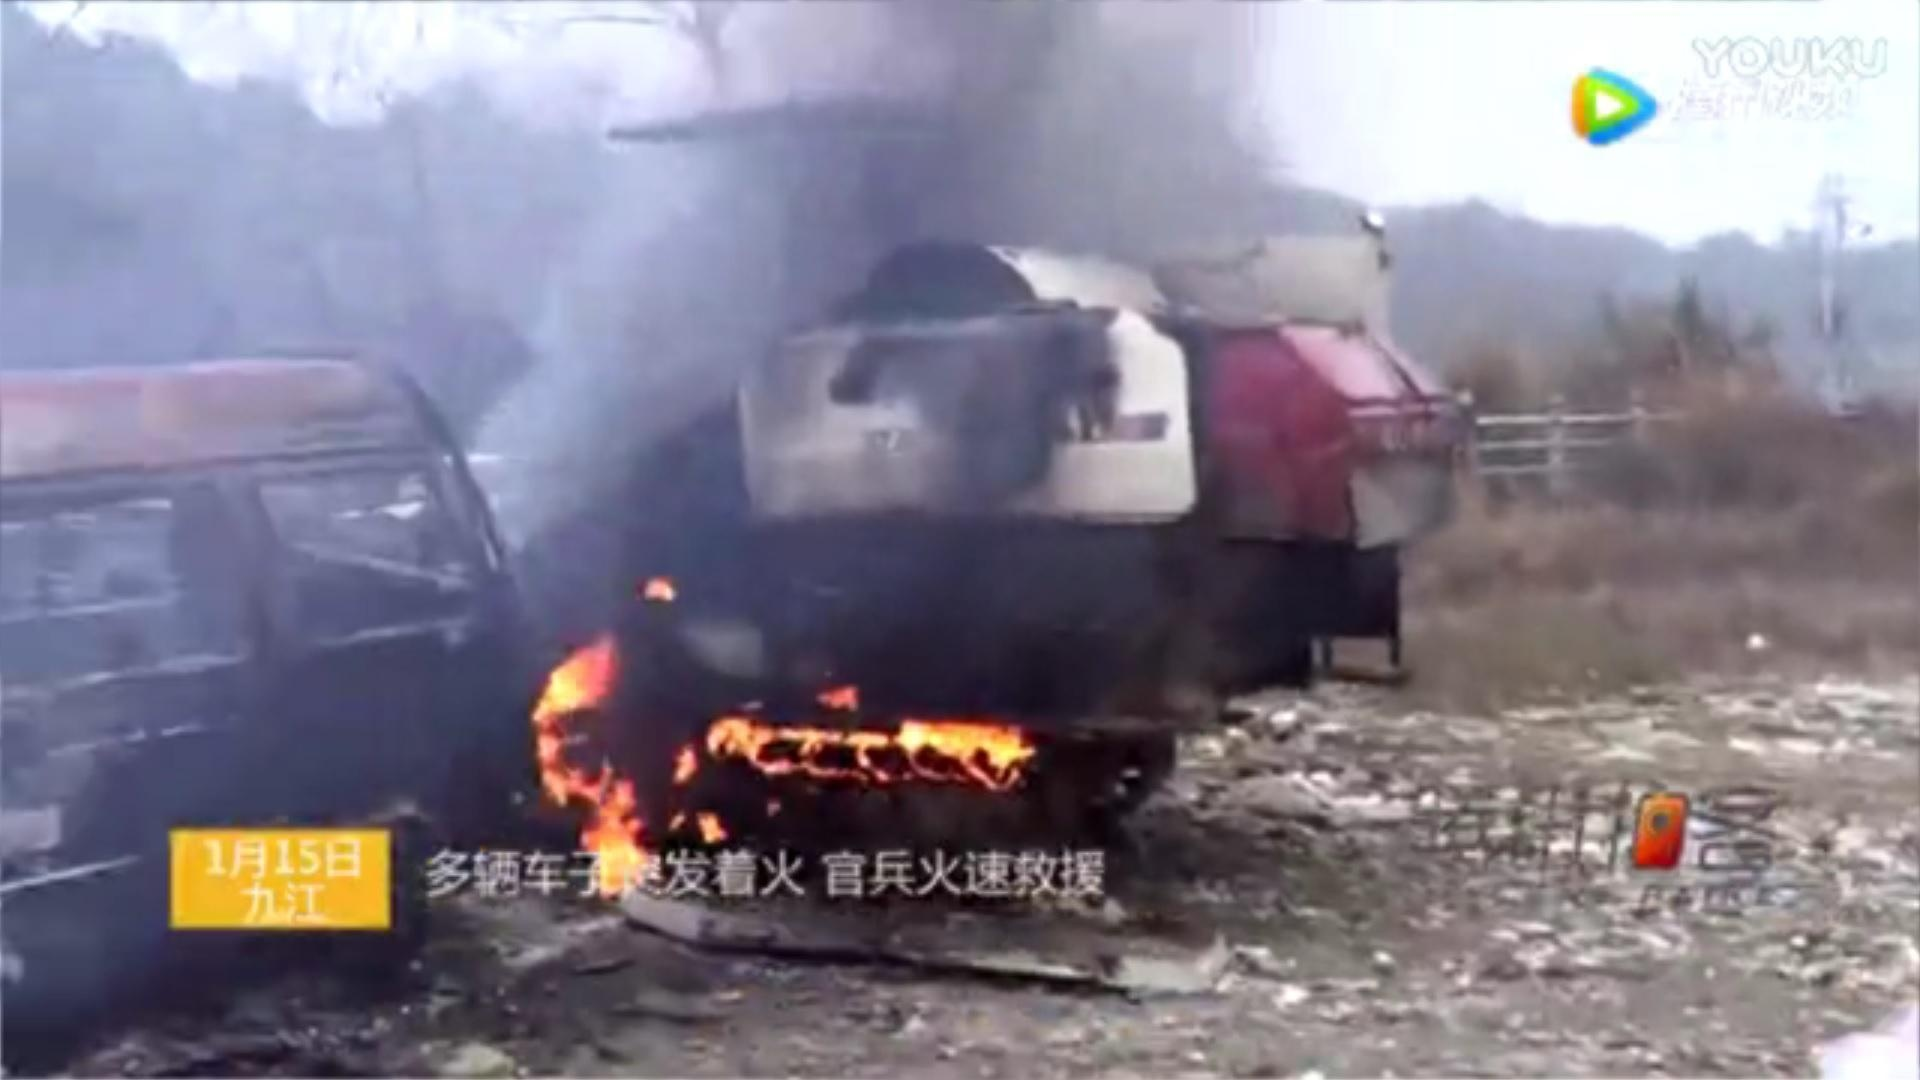fire: (518, 636, 1040, 861)
